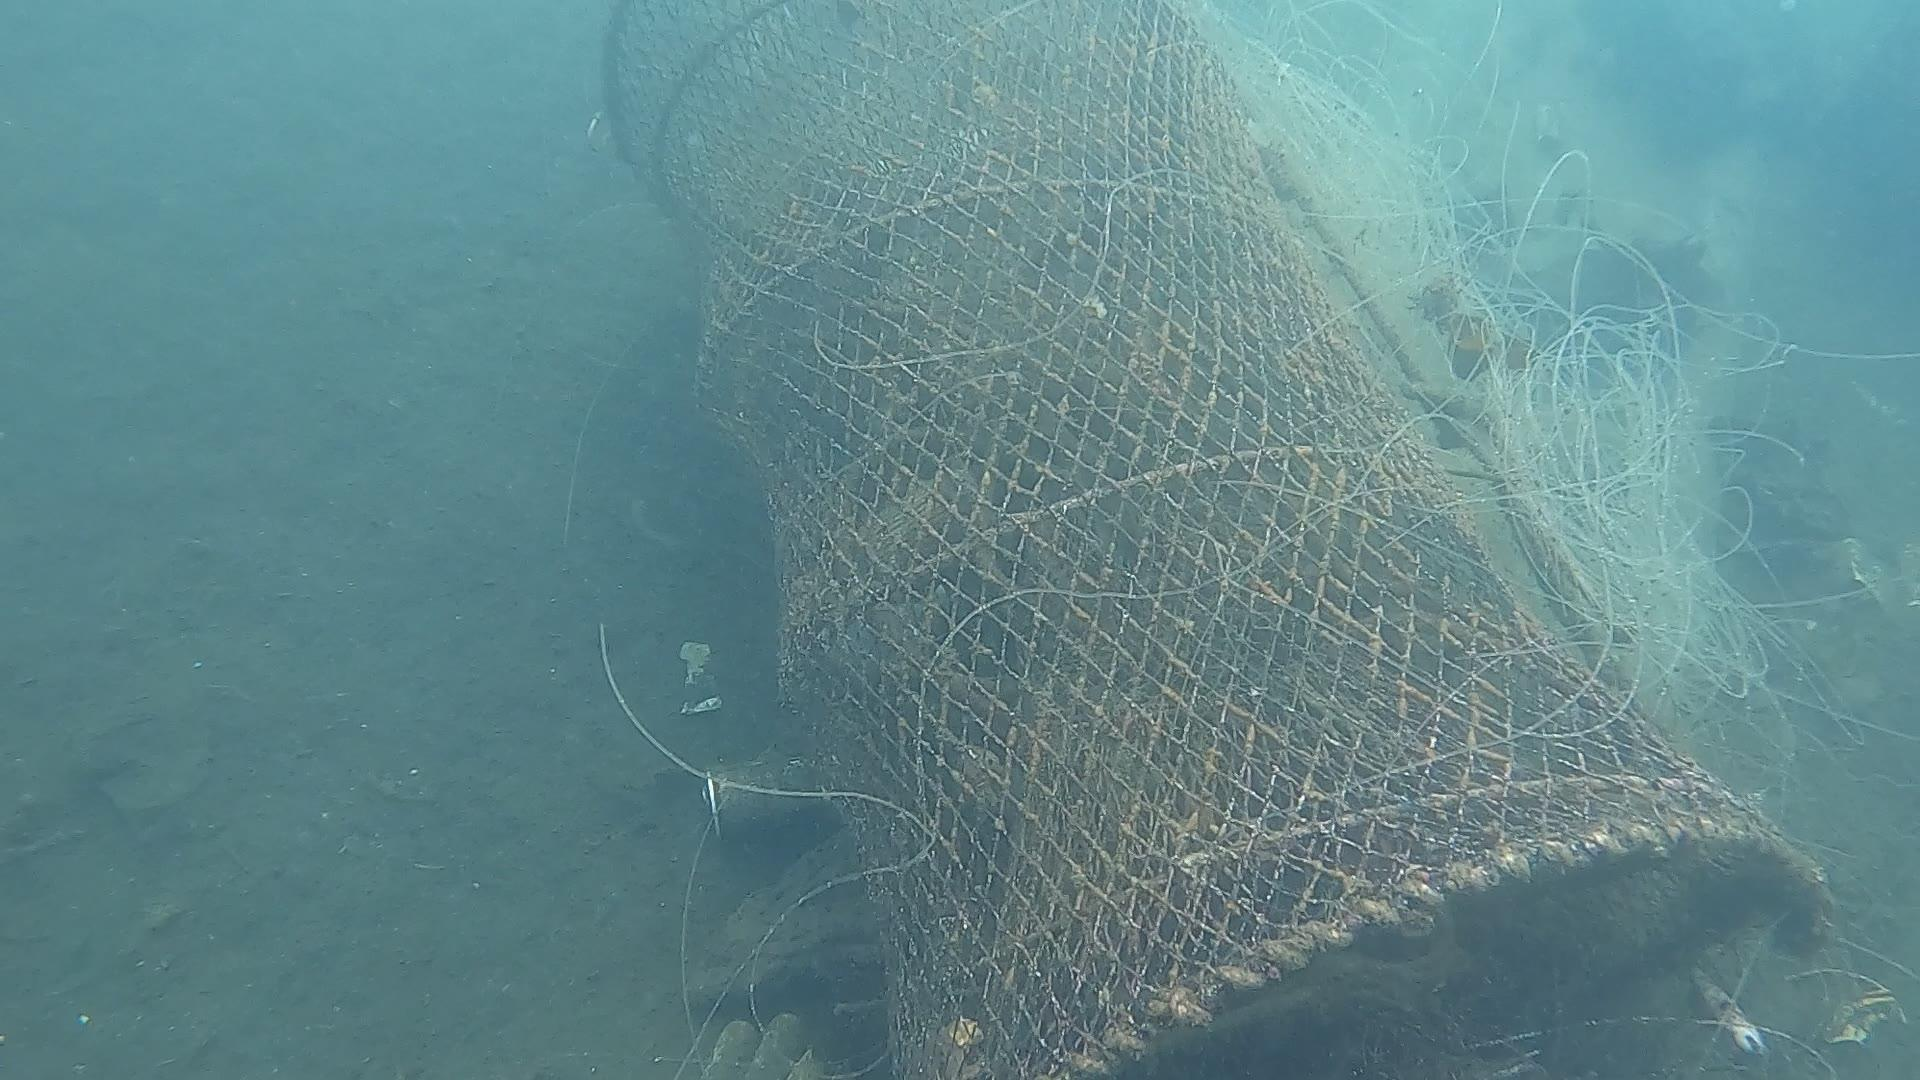spring fish trap: (595, 4, 1836, 1080)
